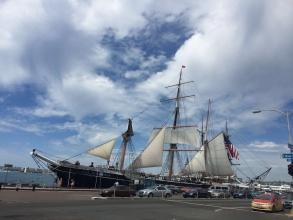fanchuan: (26, 65, 274, 190)
